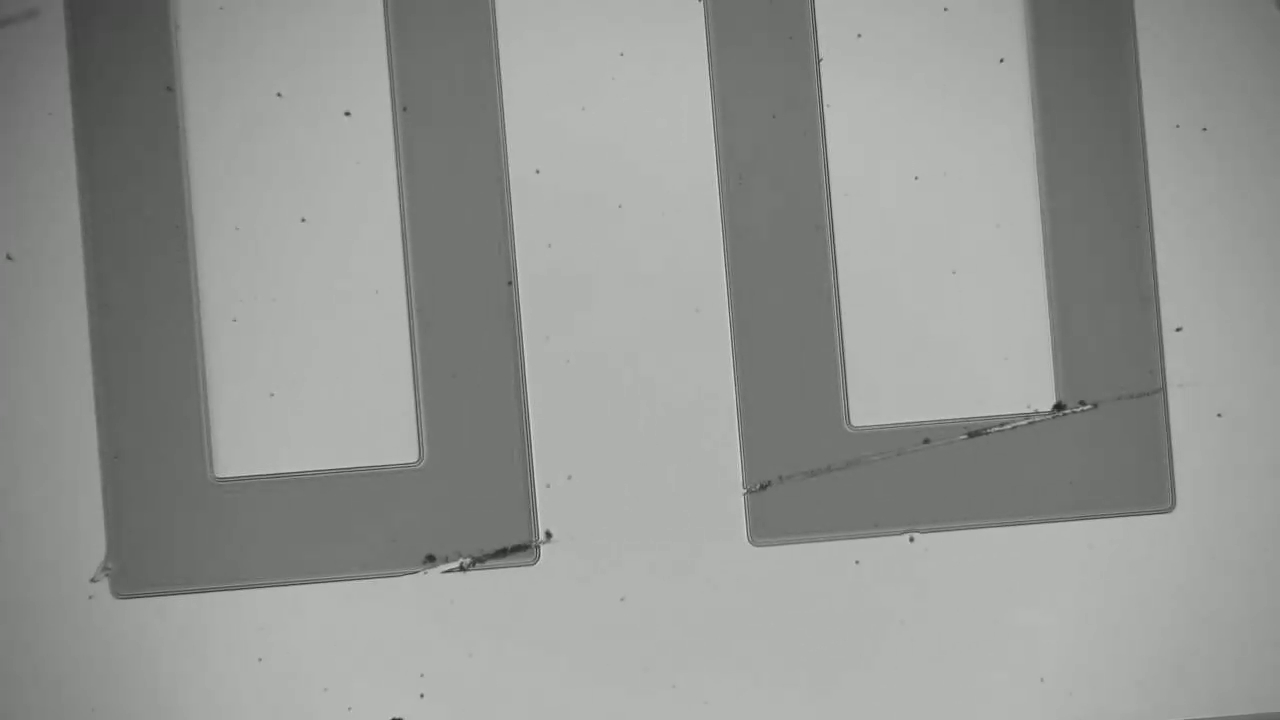scratch: (754, 389, 1161, 491), (415, 539, 533, 569)
